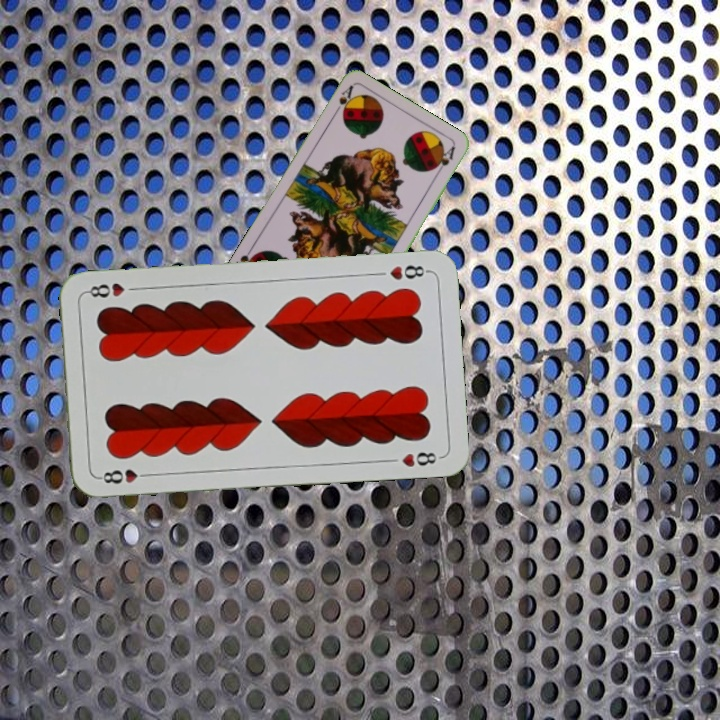H8: (95, 465, 154, 487), (385, 261, 432, 283)
SA: (329, 82, 355, 119)
